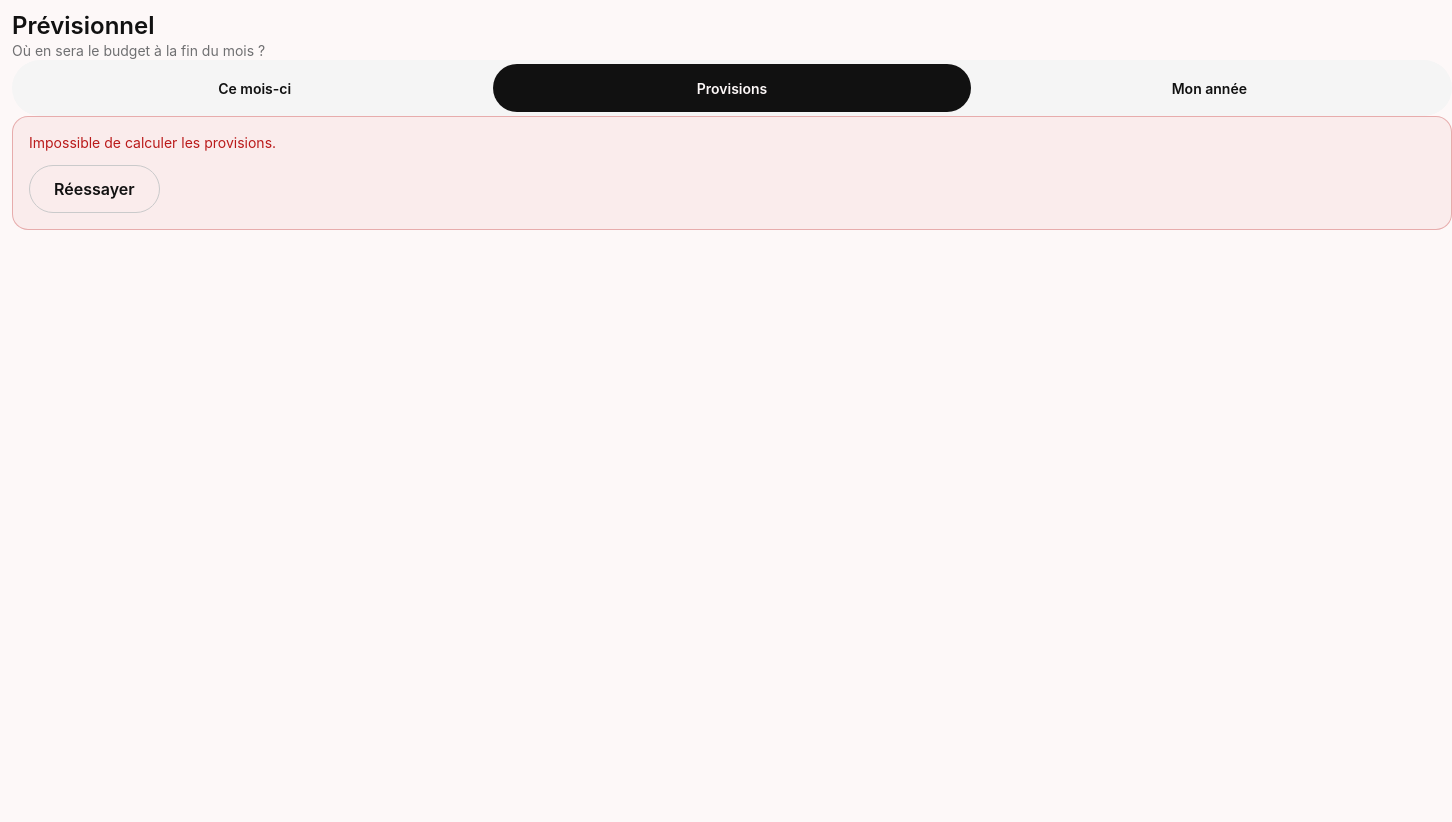
Test: PrevisionnelPage tabs › provisions › offers a retry when it fails, and reports being offline
Expected: the message shows "Impossible de calculer les provisions", [29,134,276,151]
Click the button "Réessayer". click: [94, 189]
box: [29,165,160,213]
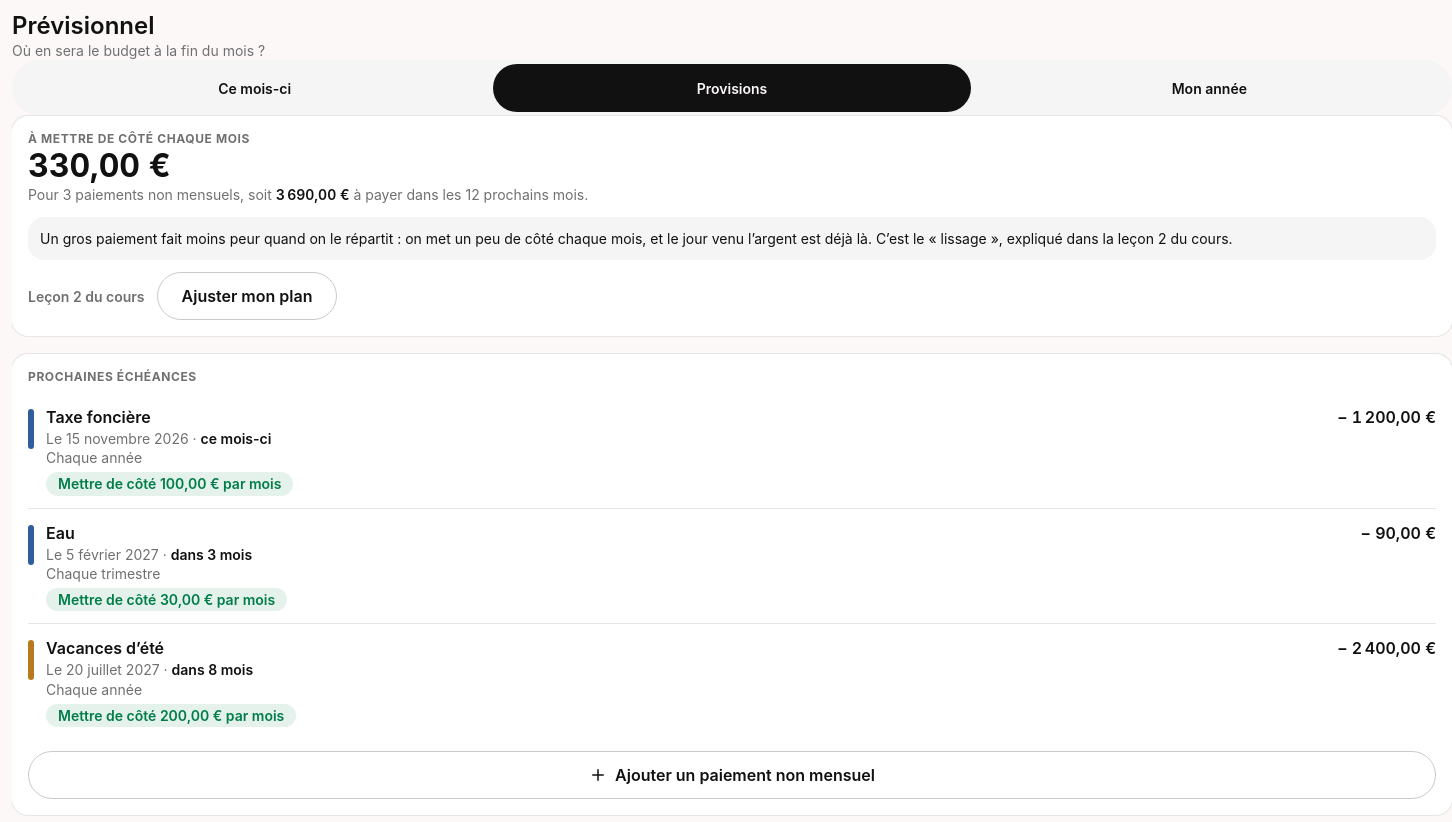
Result: the element "Prochaines échéances" is shown at [12,354,1451,815]
